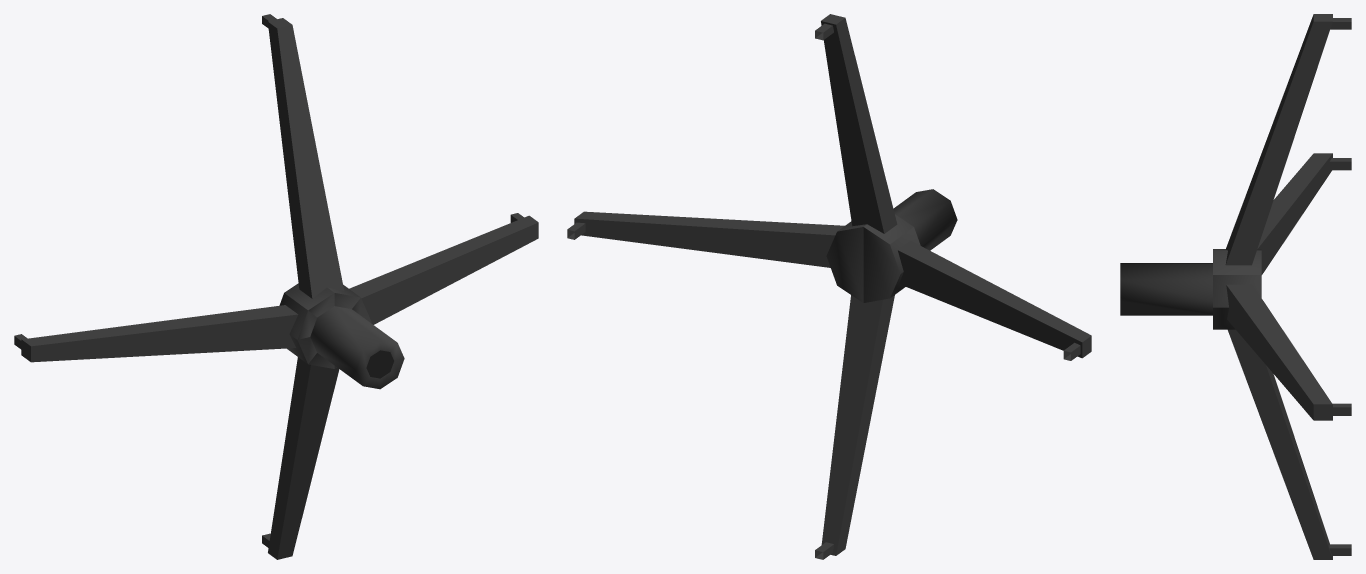
Rendered from Chair_Base.obj.
3 views of the same model, side by side, from view 1: azimuth 30°, elevation 25°; view 2: azimuth 150°, elevation 25°; view 3: azimuth 270°, elevation 25° (orthographic).
Parts seen in each view (by area): view 1: Chair_Base; view 2: Chair_Base; view 3: Chair_Base.
Boxes of the visible parts, bbox=[...] form: Chair_Base: bbox=[14, 14, 538, 559]; Chair_Base: bbox=[567, 14, 1091, 559]; Chair_Base: bbox=[1120, 14, 1351, 559].
Size of the model in its own units: 0.7347 by 0.7347 by 0.2862.
